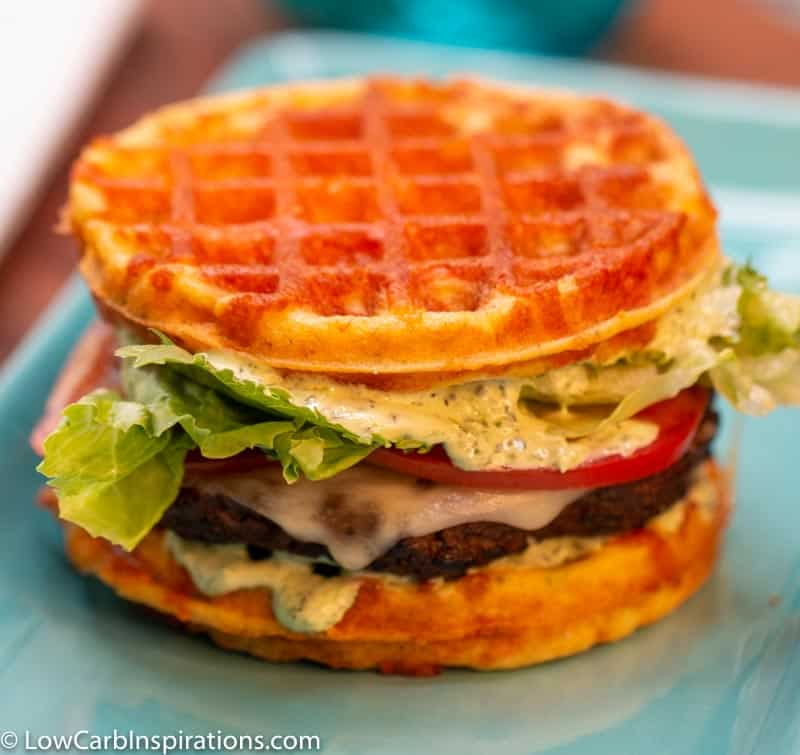hamburger_buns: (52, 90, 728, 366), (38, 508, 755, 673)
